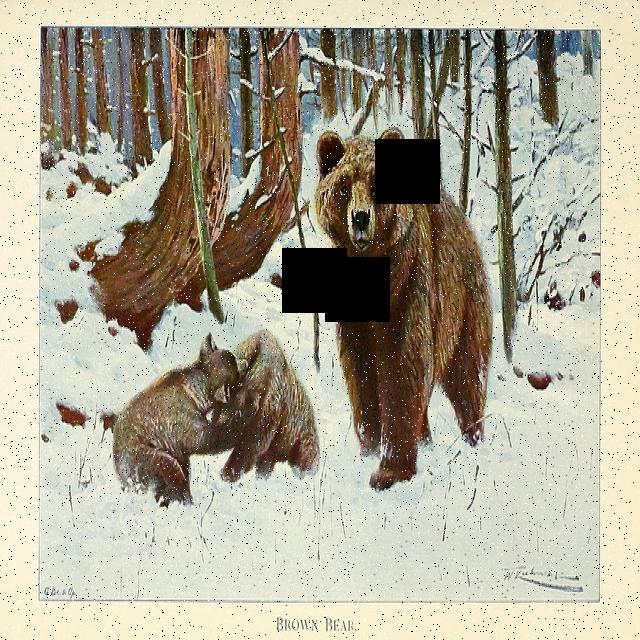Bear: (302, 116, 514, 508)
